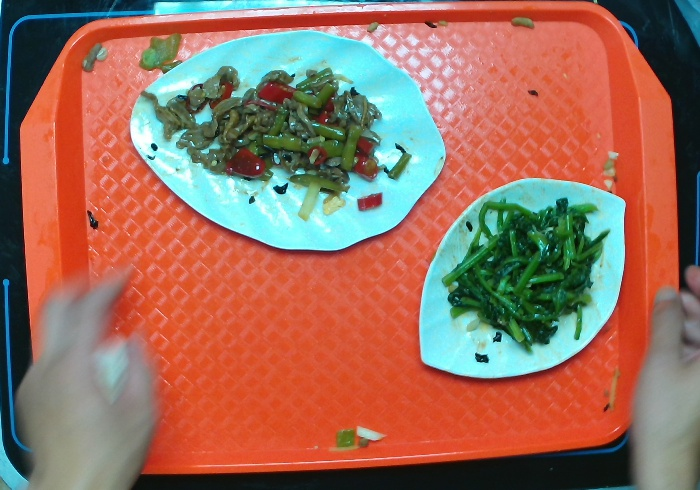RJxy-Bai_Ye_Pan: (126, 20, 446, 252)
RJxy-Da_Du_Pan: (414, 171, 634, 378)
